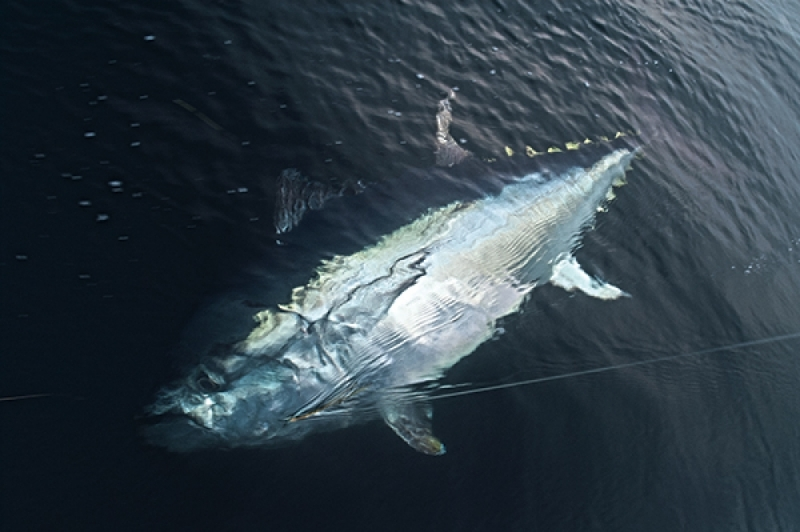Bluefina Tuna: (138, 109, 659, 473)
